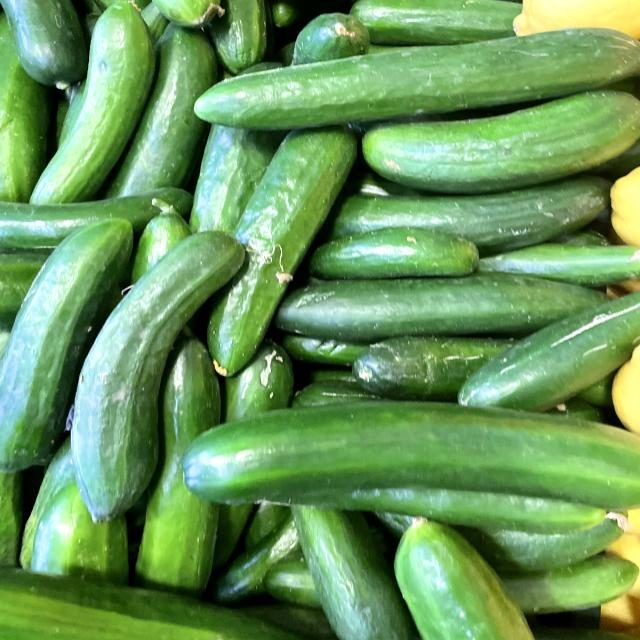cucumber: (178, 383, 640, 537), (44, 217, 261, 531), (190, 26, 640, 141)
